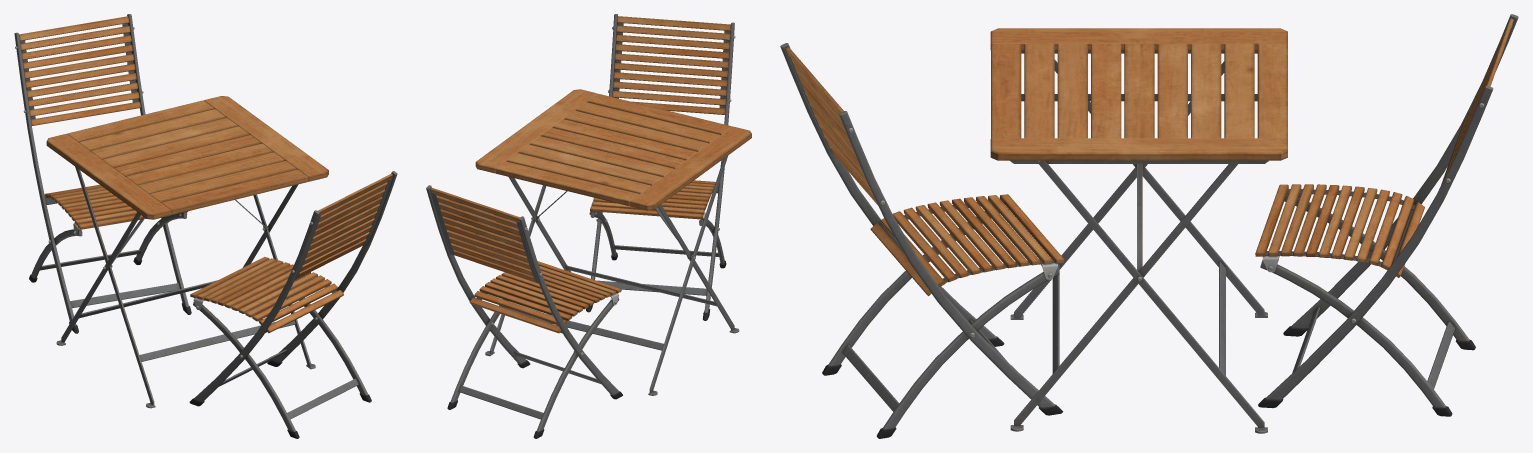
Rendered from ph_bistro_set.glb.
The picture shows the model from 3 angles, left to right: view 1: azimuth 30°, elevation 25°; view 2: azimuth 150°, elevation 25°; view 3: azimuth 270°, elevation 25°; orthographic projection. The views are drawn at different scales.
Parts seen in each view (by area): view 1: outdoor_table_chair_set_01_table, outdoor_table_chair_set_01_chair_02, outdoor_table_chair_set_01_chair_01; view 2: outdoor_table_chair_set_01_table, outdoor_table_chair_set_01_chair_02, outdoor_table_chair_set_01_chair_01; view 3: outdoor_table_chair_set_01_table, outdoor_table_chair_set_01_chair_01, outdoor_table_chair_set_01_chair_02.
Part boxes in pixels (x1,y1,x2,y2): outdoor_table_chair_set_01_table: (46, 96, 328, 408); outdoor_table_chair_set_01_chair_02: (14, 14, 191, 333); outdoor_table_chair_set_01_chair_01: (189, 171, 397, 438); outdoor_table_chair_set_01_table: (475, 89, 751, 395); outdoor_table_chair_set_01_chair_02: (426, 185, 622, 438); outdoor_table_chair_set_01_chair_01: (586, 14, 735, 320); outdoor_table_chair_set_01_table: (990, 28, 1287, 433); outdoor_table_chair_set_01_chair_01: (780, 43, 1064, 438); outdoor_table_chair_set_01_chair_02: (1255, 14, 1518, 416).
Size of the model in its own units: 0.7417 by 0.8586 by 1.72.
Materials: 2 (2 with a texture image).
